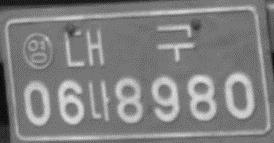0: (223, 70, 257, 121), (23, 80, 51, 127)
6: (57, 78, 85, 125)
8: (113, 75, 145, 126), (186, 73, 218, 121)
9: (150, 74, 180, 124)
나: (86, 78, 112, 123)
대구_D: (63, 23, 198, 68)
영: (22, 31, 55, 72)
